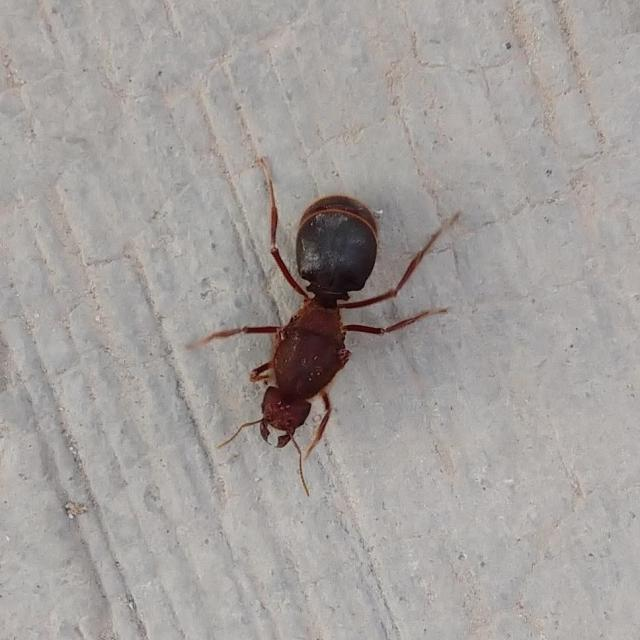Alive-Female-Dealate: (187, 158, 459, 499)
